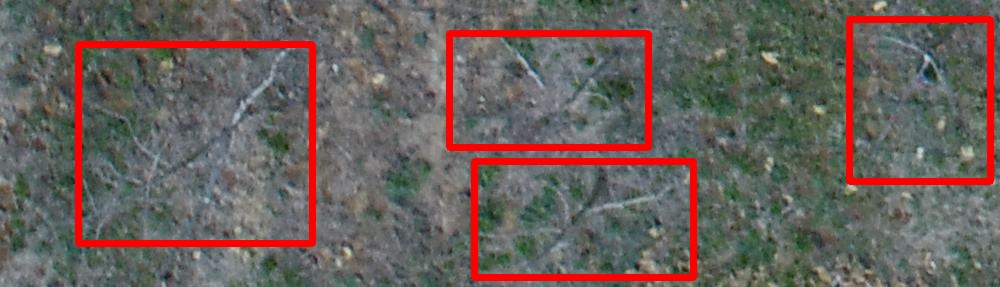apple: (78, 44, 312, 243), (474, 161, 693, 277), (849, 19, 990, 181), (449, 33, 648, 147)
